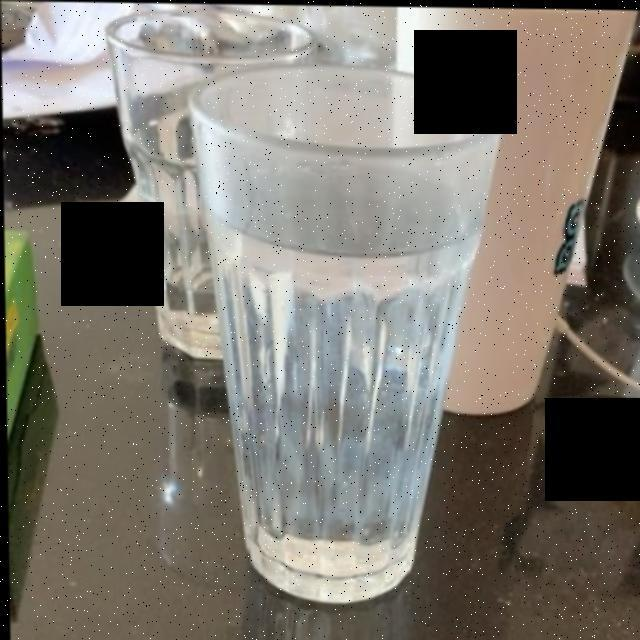water: (200, 113, 463, 578)
